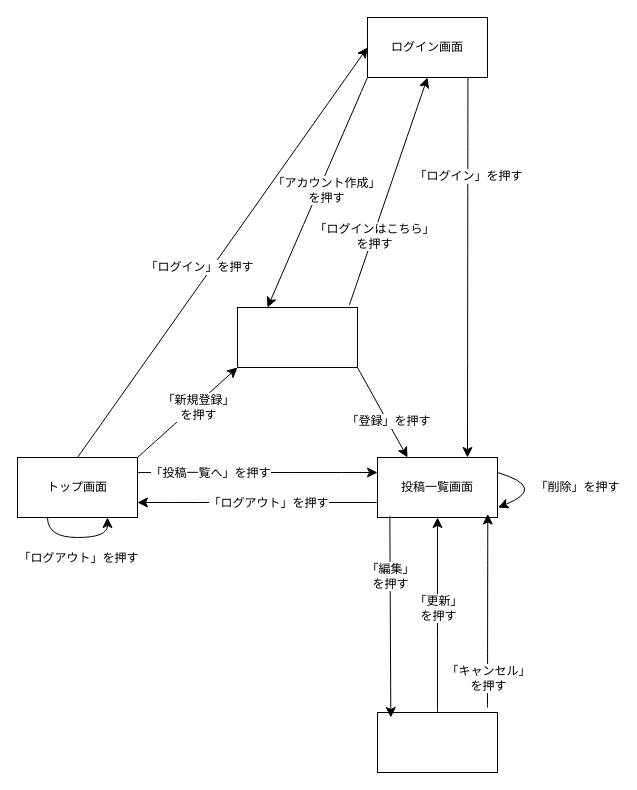
The diagram is 637 pixels wide and 790 high, and some of its shapes have lost their labels. Here are the shapes that lost their labels. From the top down, the centre of each, then its label:
pixel 297 337: アカウント作成画面
pixel 437 742: 投稿編集画面
